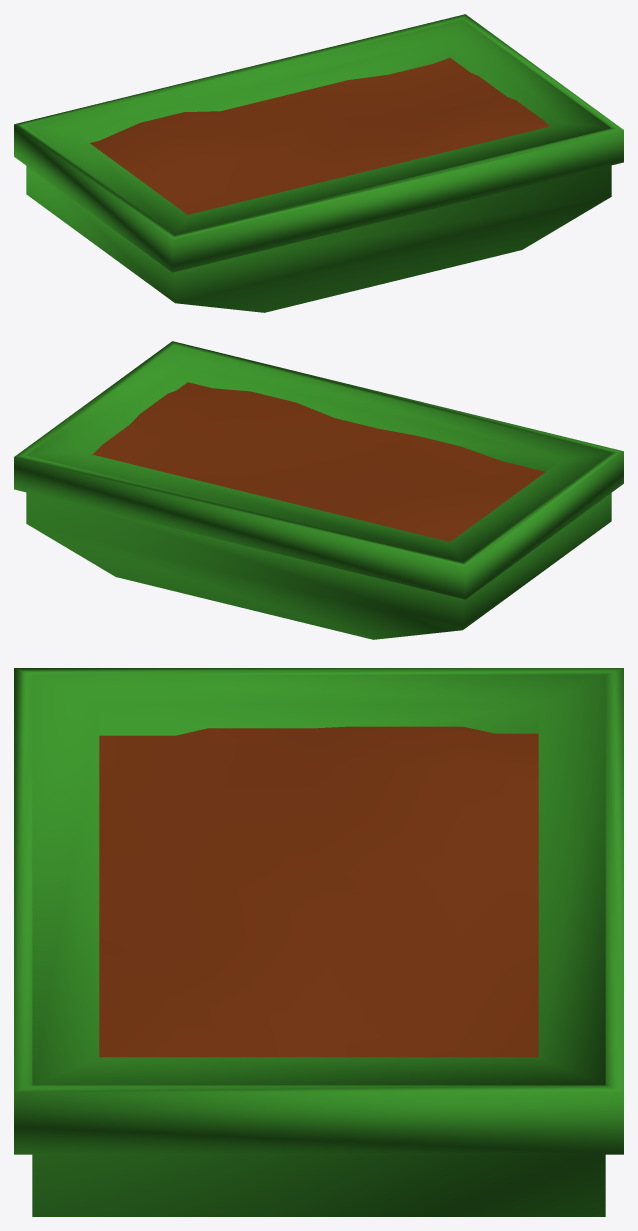
The model's file is Maceta Bonsai.fbx.
3 views of the same model, one above another, from view 1: azimuth 30°, elevation 25°; view 2: azimuth 150°, elevation 25°; view 3: azimuth 270°, elevation 25° (orthographic). The views are drawn at different scales.
Visible parts, largest first — view 1: Cube, Plane; view 2: Cube, Plane; view 3: Cube, Plane.
Part boxes in pixels (box(x1,y1,x2,y2)): Cube: box(14, 14, 623, 312); Plane: box(90, 58, 548, 214); Cube: box(14, 341, 623, 639); Plane: box(92, 382, 545, 541); Cube: box(14, 668, 623, 1216); Plane: box(99, 726, 538, 1057).
Bounding box in the file's own units: 350 × 74.82 × 213.
